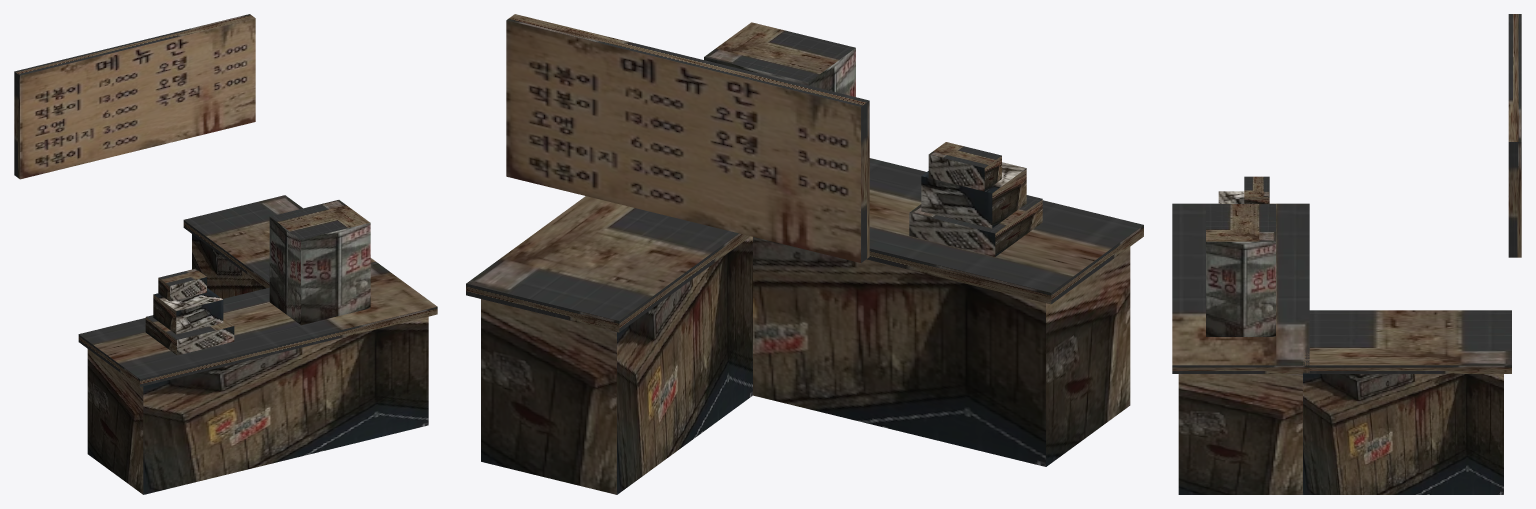
Rendered from sf_snack_counter_v2.glb.
3 renders of one model, left to right at view 1: azimuth 30°, elevation 25°; view 2: azimuth 150°, elevation 25°; view 3: azimuth 270°, elevation 25°, orthographic. The views are drawn at different scales.
Visible parts, largest first — view 1: LShapedSnackCounter_Root; view 2: LShapedSnackCounter_Root; view 3: LShapedSnackCounter_Root.
Part boxes in pixels (<box>): LShapedSnackCounter_Root: <box>14,14,437,494</box>; LShapedSnackCounter_Root: <box>466,14,1143,494</box>; LShapedSnackCounter_Root: <box>1172,14,1521,494</box>.
Bounding box in the file's own units: 2.4 × 2.35 × 2.19.
1 material, 1 textured.
